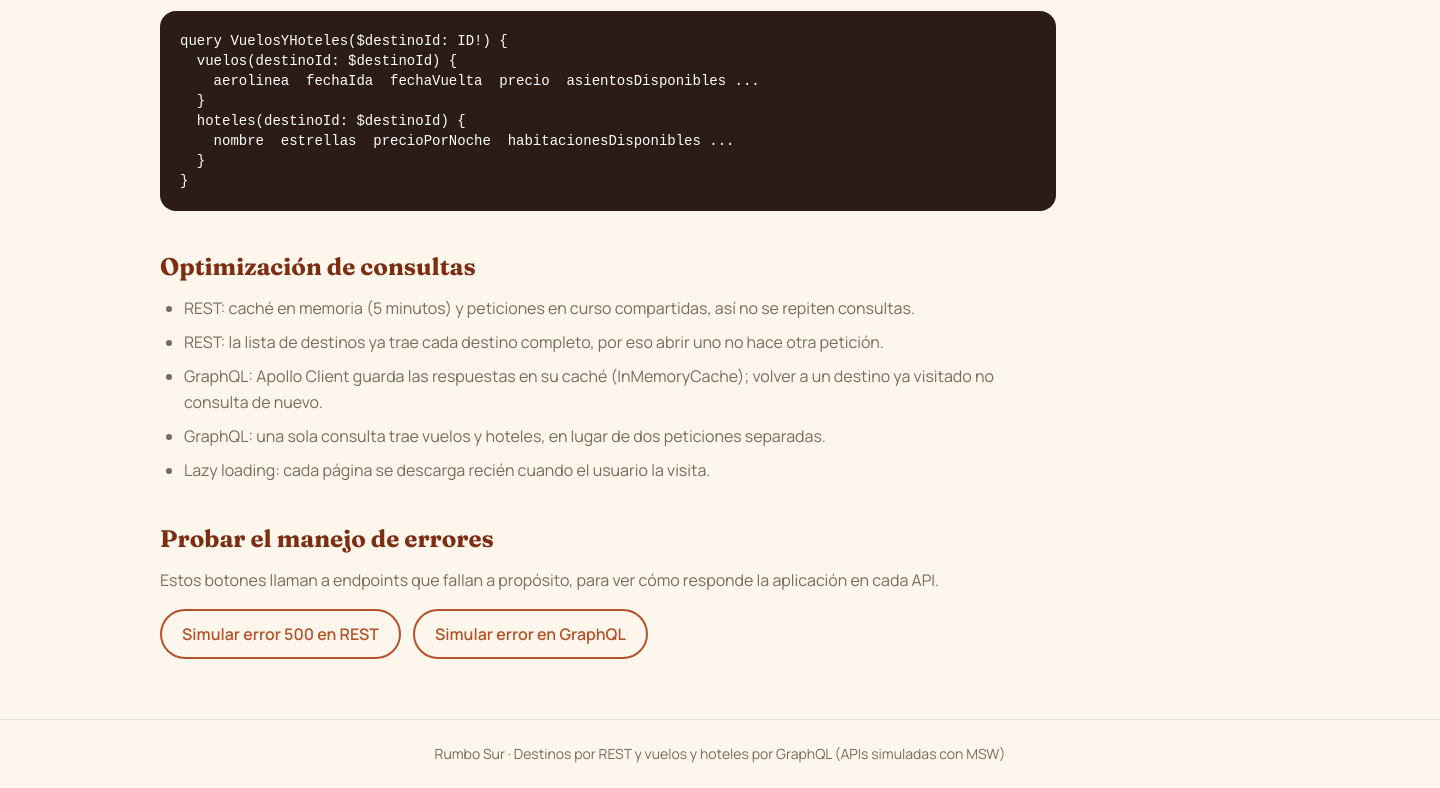
Test: Página Cómo funciona › el botón de error GraphQL muestra el mensaje del mock
(page scrolled)
Click the button "Simular error en GraphQL".
click(530, 634)  # box top-left (413, 609), bottom-right (648, 659)
(page scrolled)
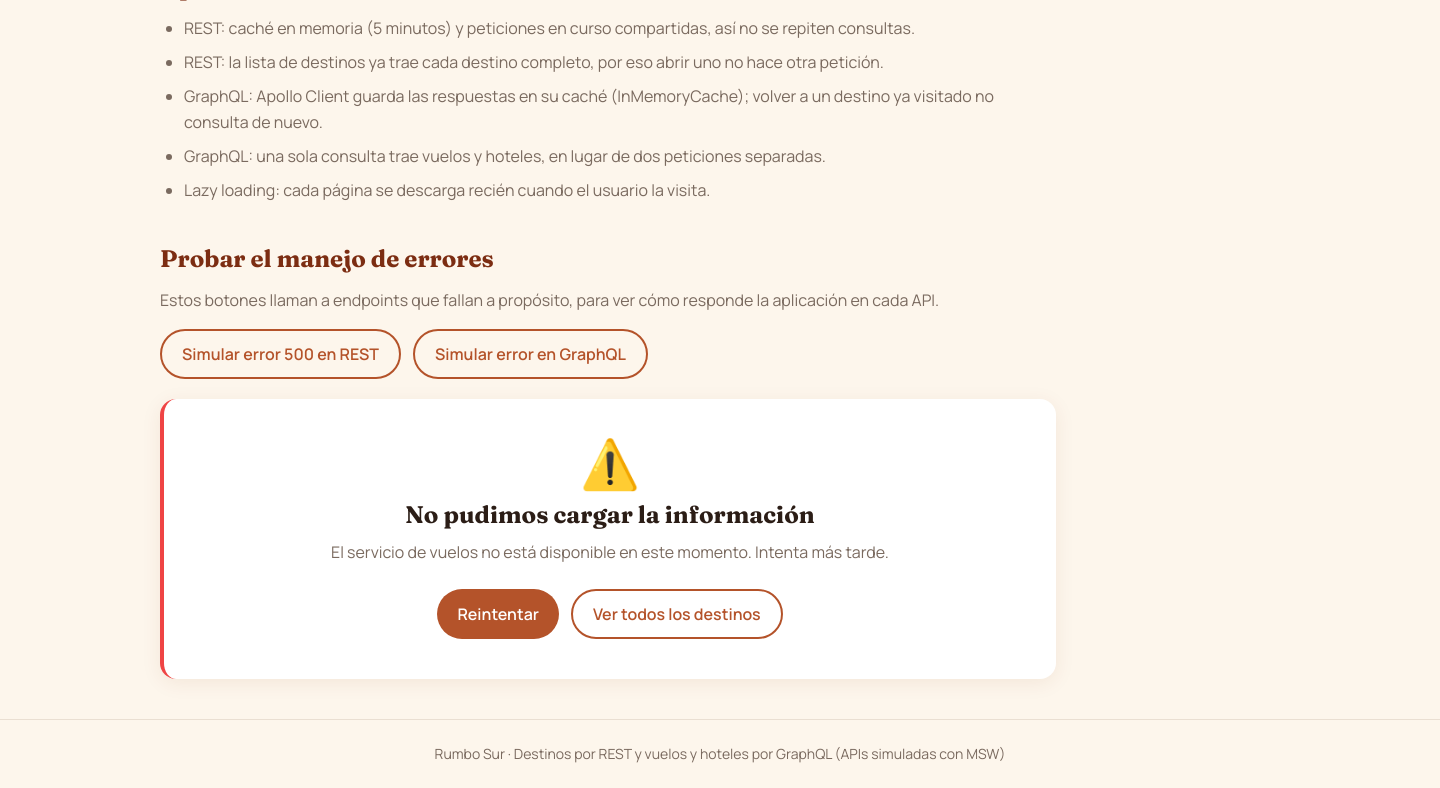
expect the message shows "El servicio de vuelos no está disponible": met, box top-left (331, 541), bottom-right (889, 563)
